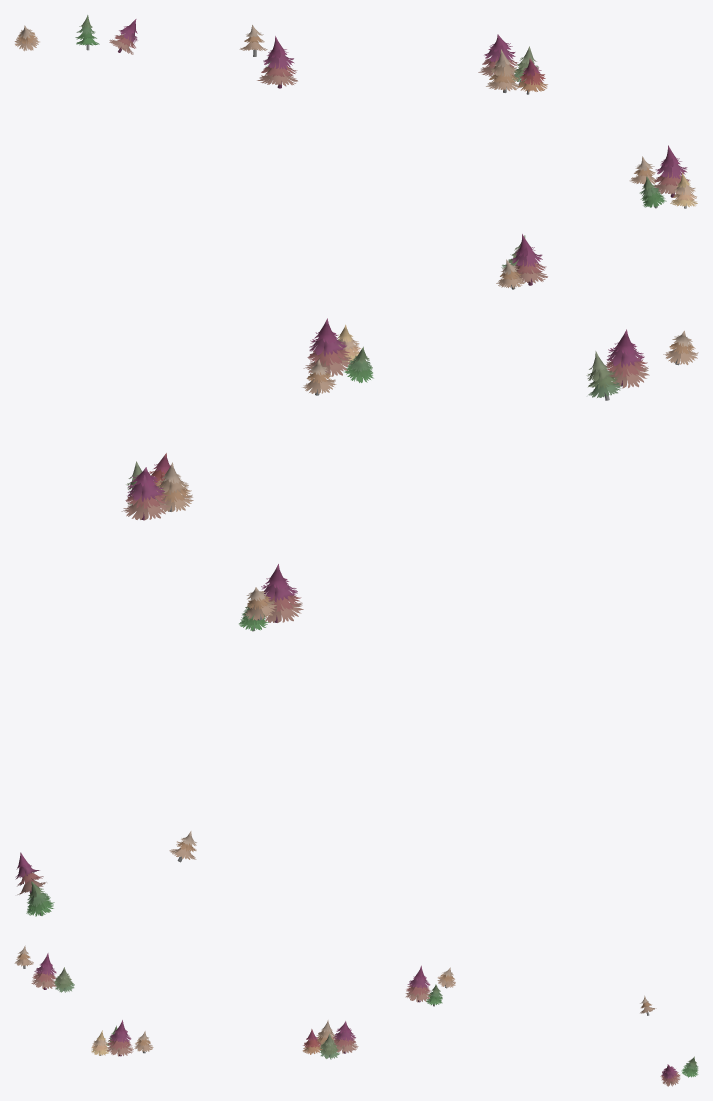
Rendered from MSH_ENV_GateArena_Trees.FBX.
3 renders of one model, top to bottom at view 1: azimuth 30°, elevation 25°; view 2: azimuth 150°, elevation 25°; view 3: azimuth 270°, elevation 25°, orthographic. The views are drawn at different scales.
Visible parts, largest first — view 1: ENV_GateArena_Trees; view 2: ENV_GateArena_Trees; view 3: ENV_GateArena_Trees.
Part boxes in pixels (x1,y1,x2,y2): ENV_GateArena_Trees: (14,15,697,289); ENV_GateArena_Trees: (15,318,698,916); ENV_GateArena_Trees: (14,945,698,1086).
Bounding box in the file's own units: 23.5 × 12.73 × 69.38.
